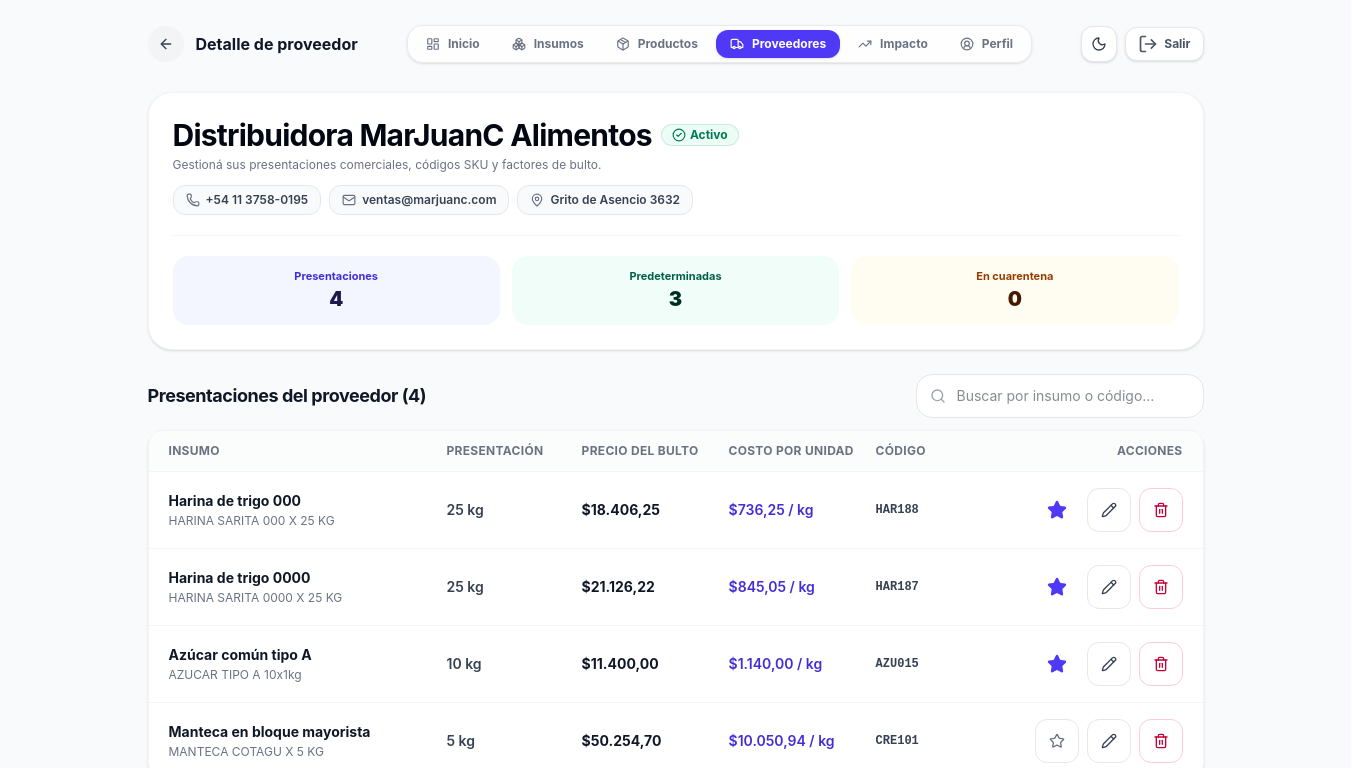
Test case: SupplierDetailPage (/proveedores/:id) — Escenarios Gherkin › Escenario Gherkin "Código repetido": error 409 se muestra en el campo y no se guarda
Expected: the heading "Distribuidora MarJuanC Alimentos" is shown, [172,117,652,153]
Click the button named "Editar presentación de Manteca en bloque mayorista" at (1108, 740), box [1086,718,1130,762]
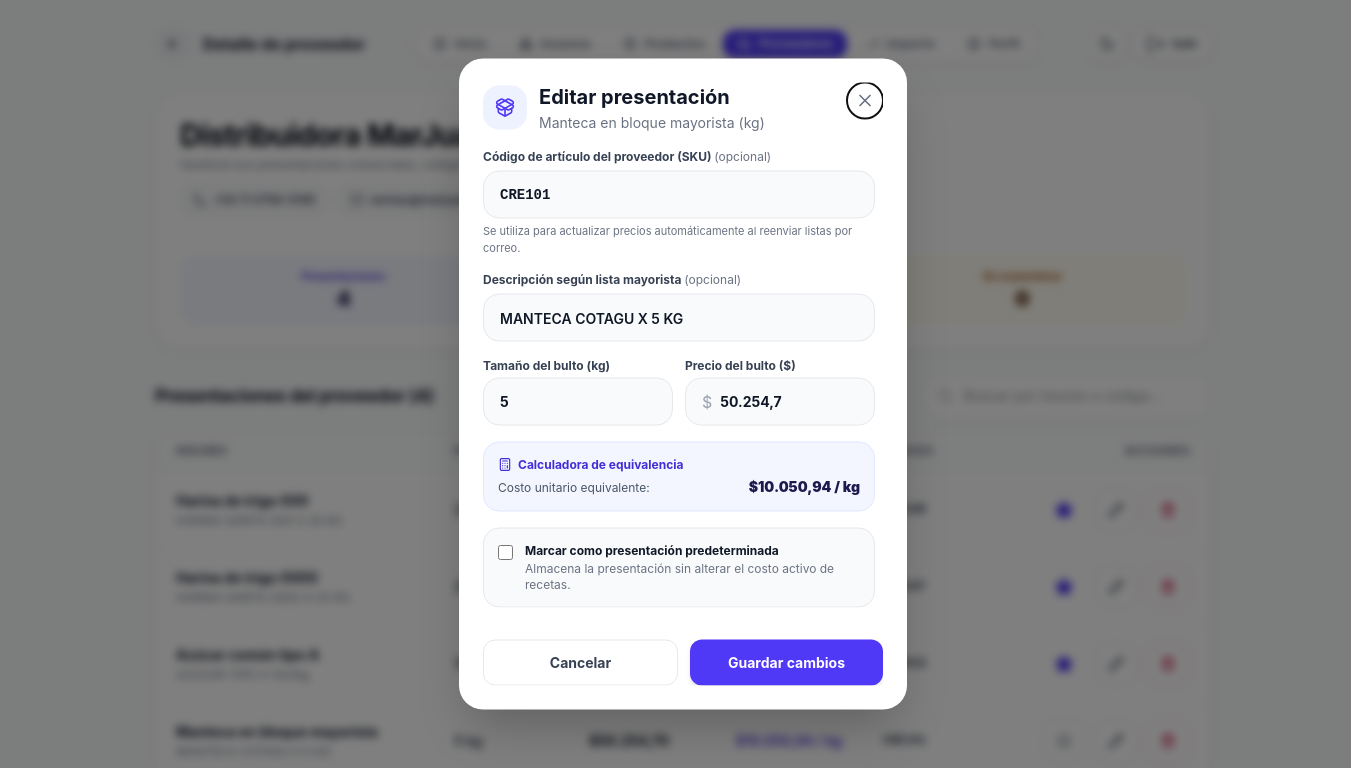
Replace the text in the field labelled "Código de artículo del proveedor (SKU) (opcional)" with "HAR188" at (679, 194), box [483,170,875,218]
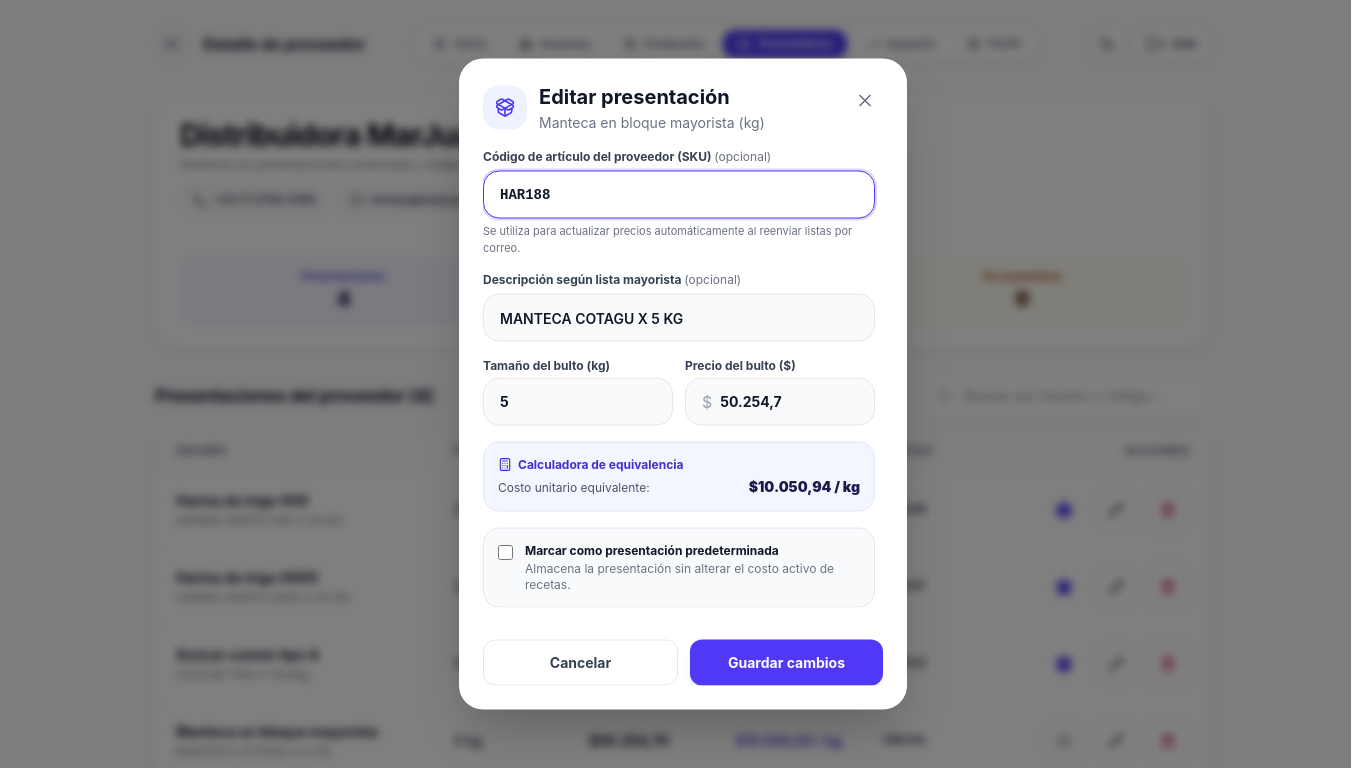
Click the button "Guardar cambios" at (786, 662), box [690,640,883,686]
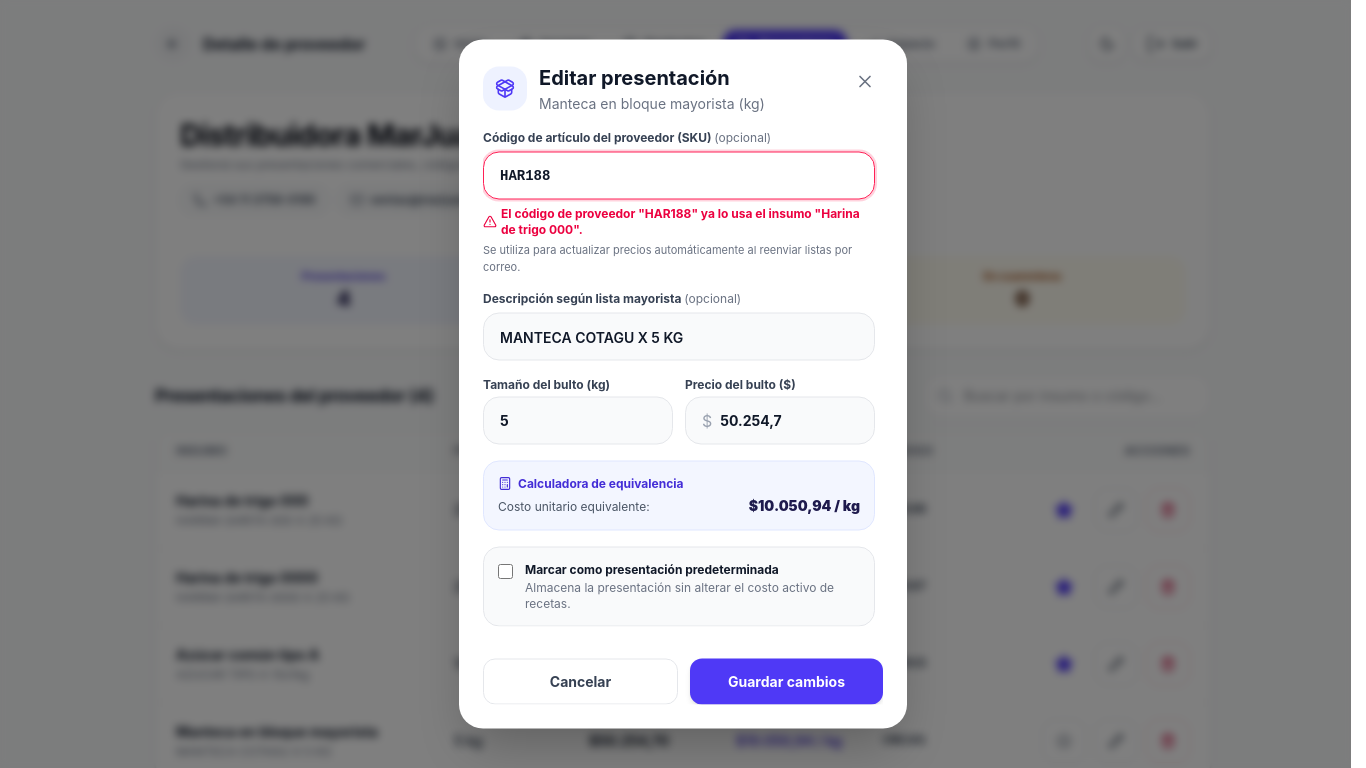
Now the text "El código de proveedor \"HAR188\" ya lo usa el insumo \"Harina de trigo 000\"." is shown, box [483,206,875,238]
